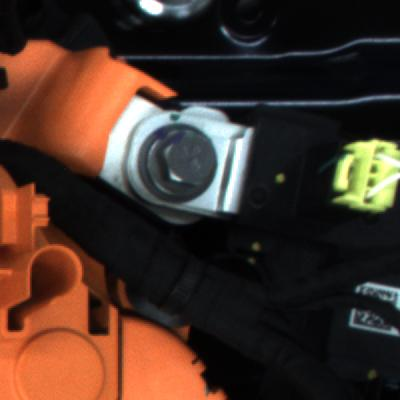nut_b: (133, 117, 223, 204)
